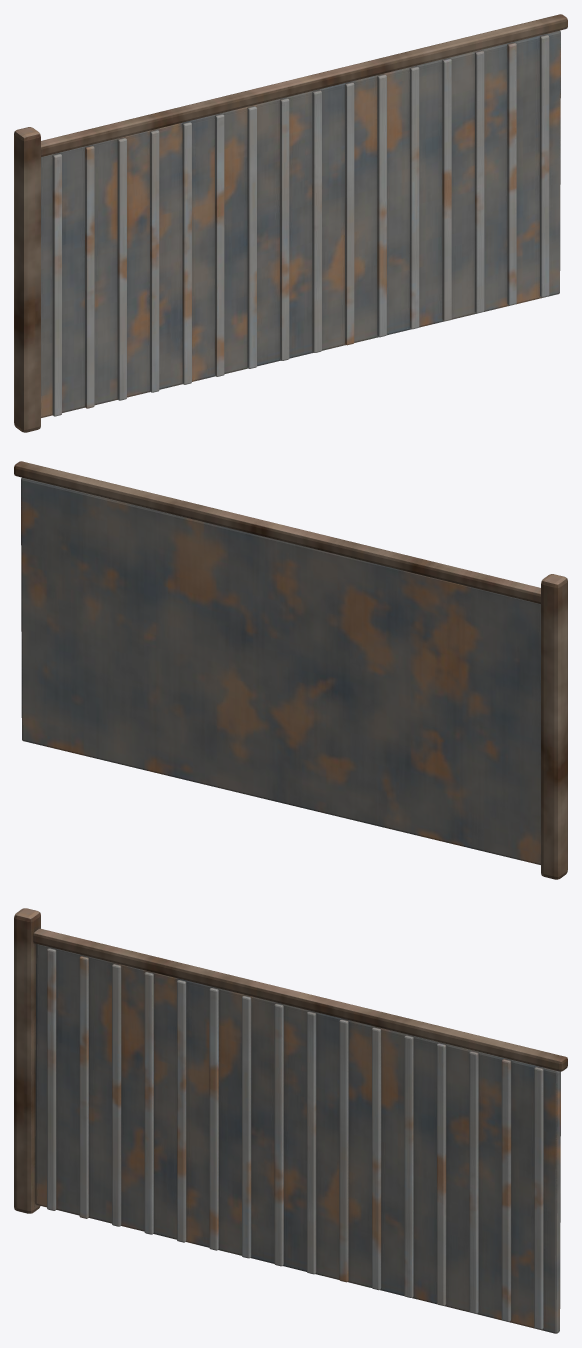
The model's file is fence_tall_c.glb.
3 renders of one model, top to bottom at view 1: azimuth 30°, elevation 25°; view 2: azimuth 150°, elevation 25°; view 3: azimuth 330°, elevation 25°, orthographic.
Parts seen in each view (by area): view 1: FenceTall_Mesh; view 2: FenceTall_Mesh; view 3: FenceTall_Mesh.
Boxes of the visible parts, x1=… form: FenceTall_Mesh: x1=14, y1=14, x2=567, y2=432; FenceTall_Mesh: x1=14, y1=461, x2=567, y2=879; FenceTall_Mesh: x1=14, y1=908, x2=567, y2=1333.
Size of the model in its own units: 4.04 by 2.1 by 0.14.
Materials: 1 (1 with a texture image).
